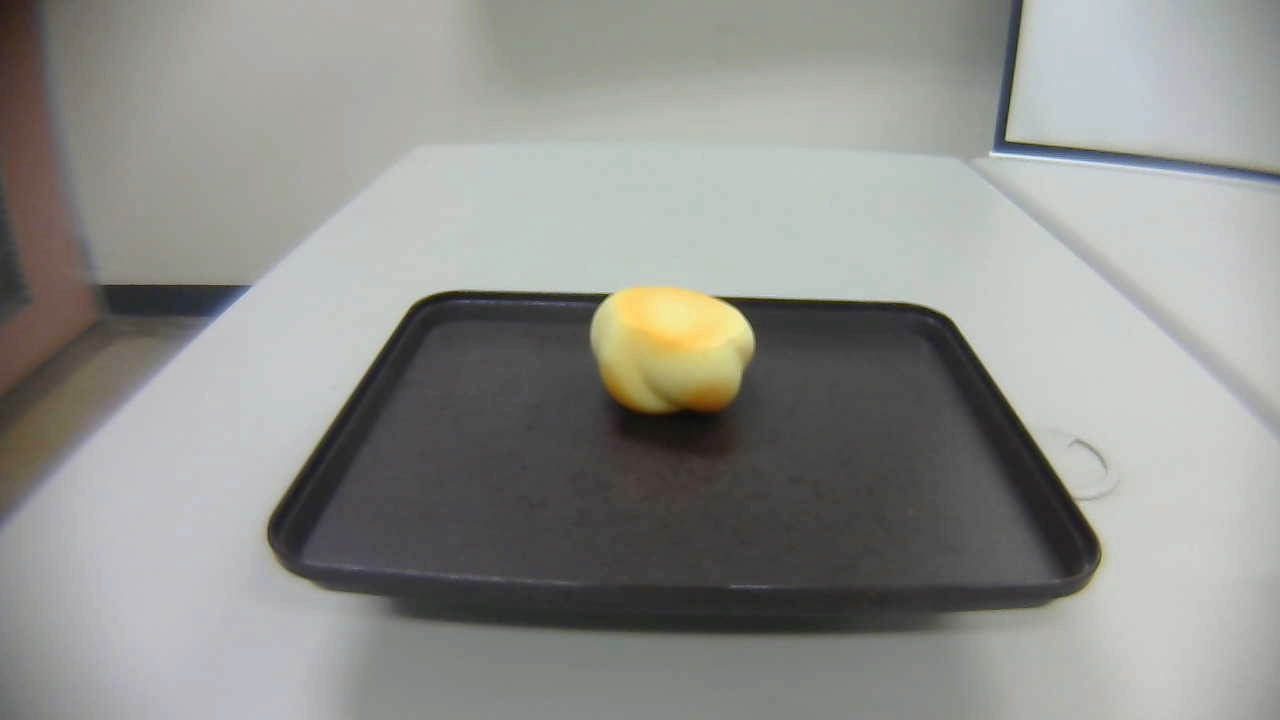twist bread: (586, 287, 756, 414)
